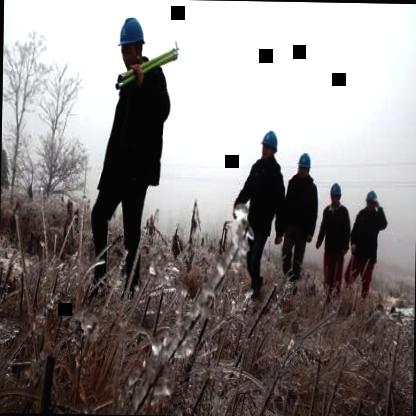helmet: (116, 10, 148, 72), (258, 126, 279, 160), (362, 185, 380, 215), (297, 146, 312, 181), (328, 178, 343, 208)
